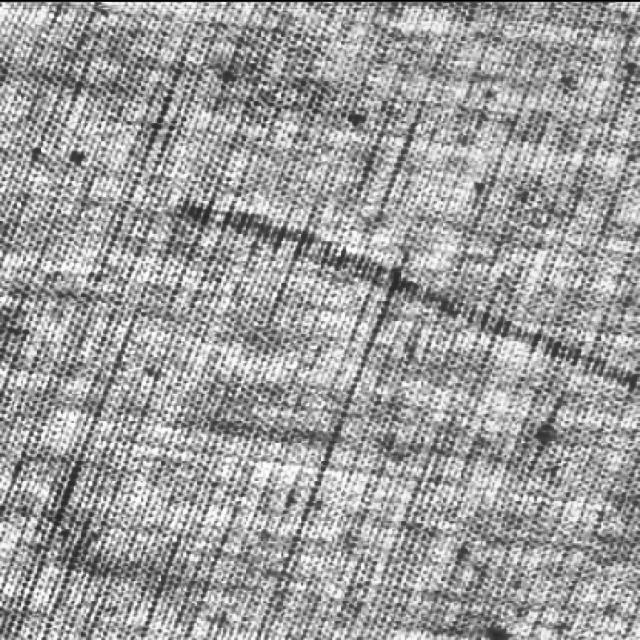oil_spot: (162, 180, 640, 422)
